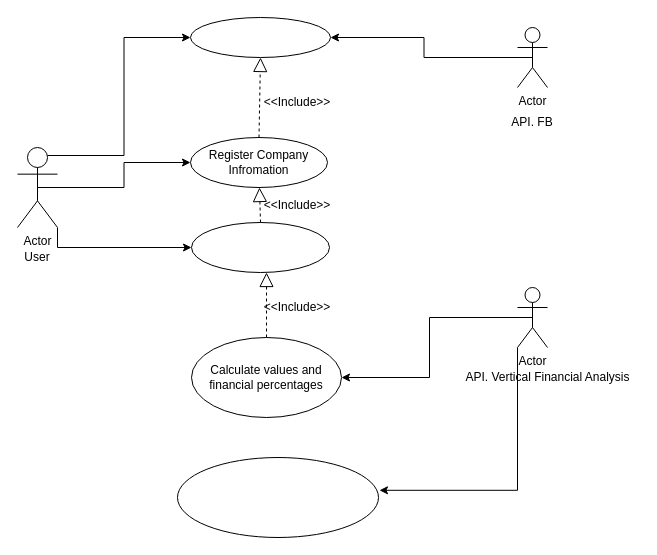
Some shapes in this 657 by 555 pixel diagram are drawn without their labels. The shapes that lost their labels are listed below. From the top down, each one's centre as x and y in pixels, then its label:
At [260,37]: "Login".
At [260,247]: "Enter Financial Data".
At [277,497]: "Generate financial report with data interpretation".
